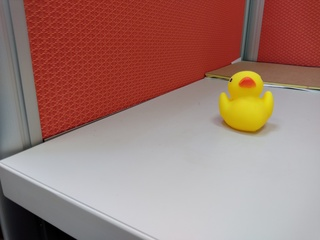duck: (216, 65, 276, 135)
